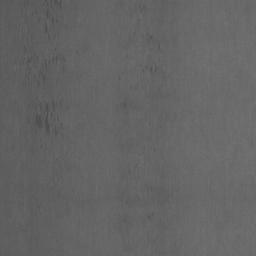Silk spot: (28, 100, 64, 136), (34, 53, 66, 87), (20, 53, 39, 88), (43, 0, 62, 27), (140, 64, 165, 79), (44, 22, 59, 40), (143, 33, 153, 43), (120, 99, 127, 109)
